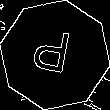P_S: (32, 27, 78, 83)
